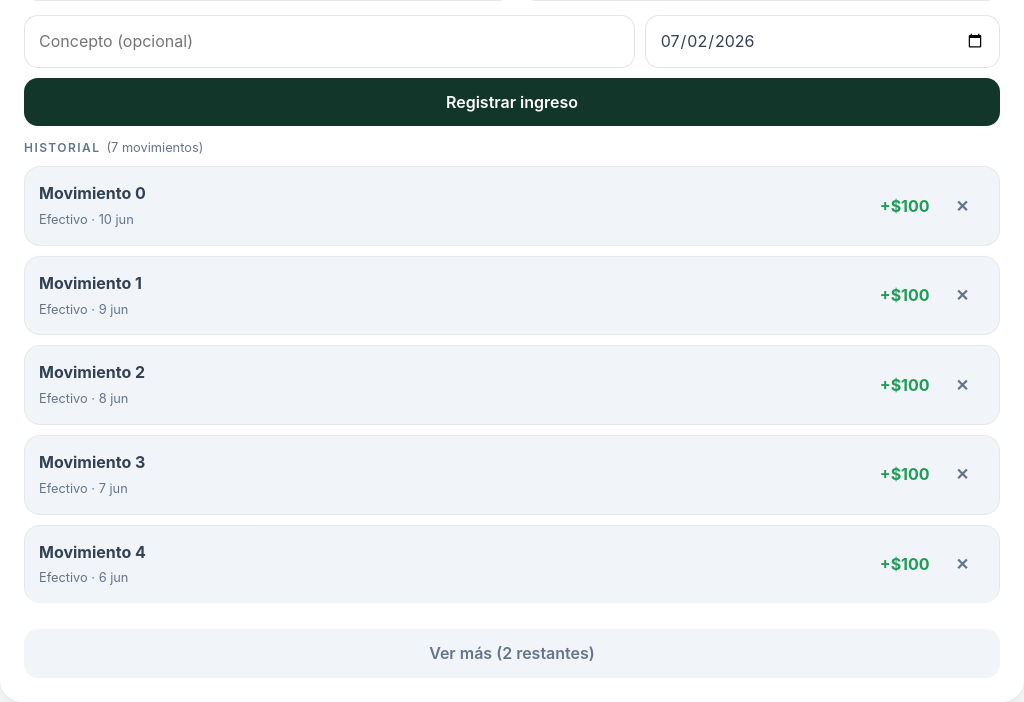
CajaPanel › shows only the latest 5 movements and paginates on demand
(page scrolled)
Expected: the text "Movimiento 0" is shown, x1=39 y1=183 x2=146 y2=203
Expected: the text "Movimiento 4" is shown, x1=39 y1=542 x2=146 y2=562
Click the button "Ver más (2 restantes)".
click(512, 654)  # box x1=24 y1=629 x2=1000 y2=678
(page scrolled)
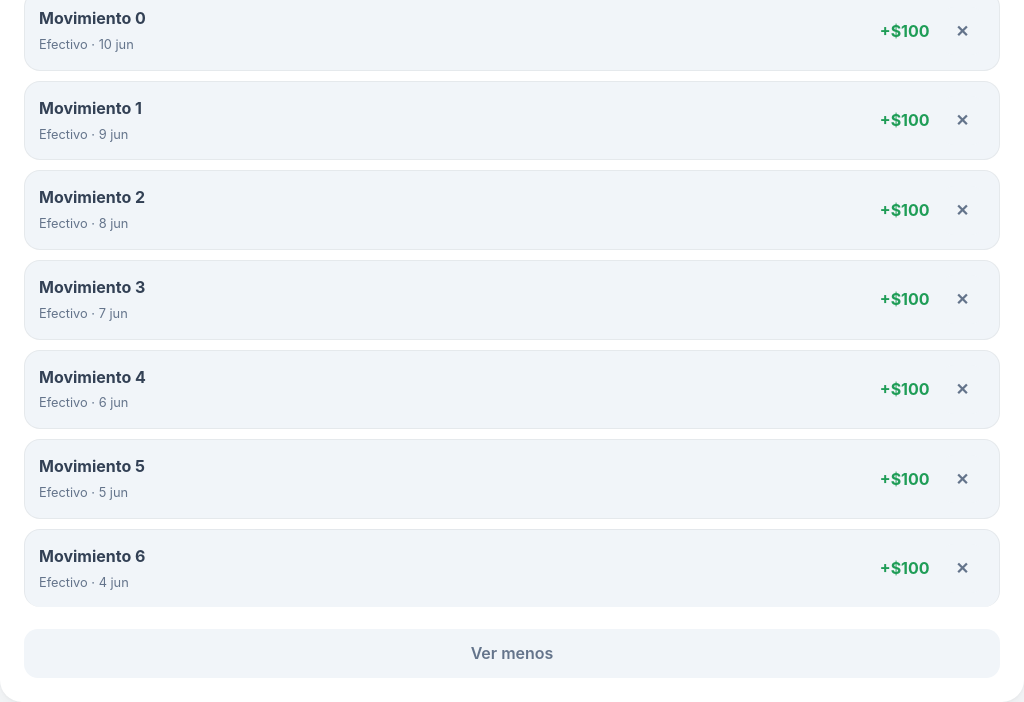
Now the text "Movimiento 5" is shown, box x1=39 y1=456 x2=145 y2=476
Now the text "Movimiento 6" is shown, box x1=39 y1=546 x2=146 y2=566
Y se puede colapsar de nuevo.
Click the button "Ver menos".
click(512, 654)  # box x1=24 y1=629 x2=1000 y2=678
(page scrolled)
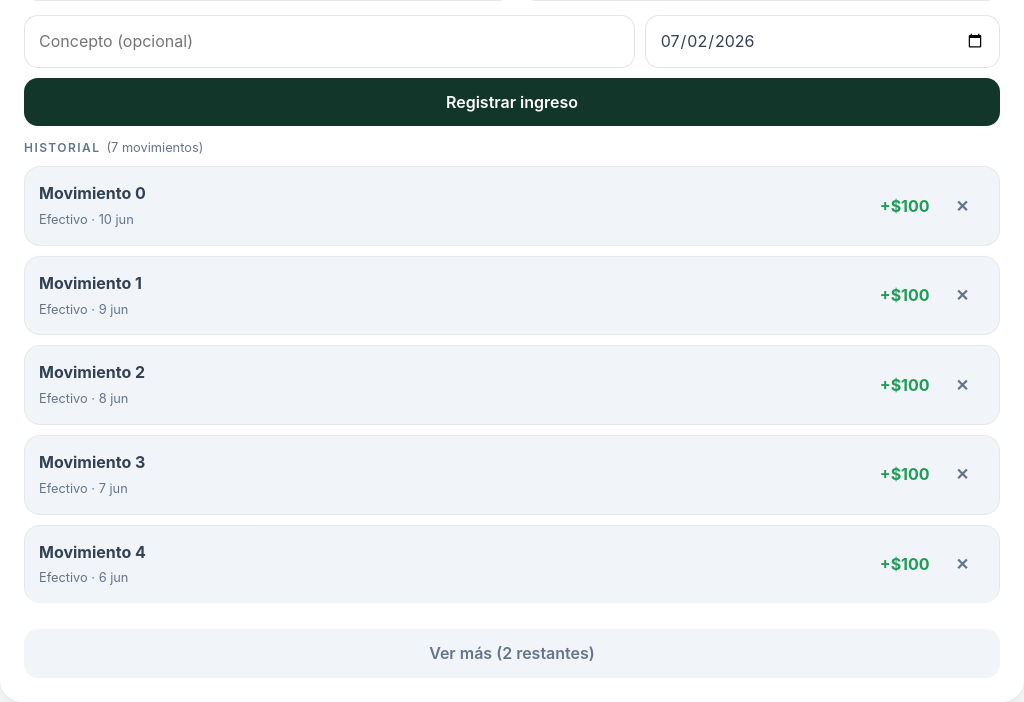
Now the text "Movimiento 6" is gone
